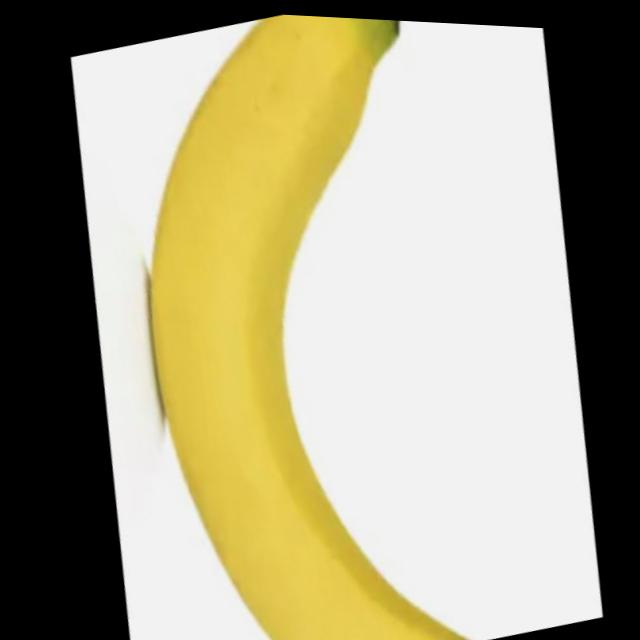Banana: (54, 2, 578, 640)
